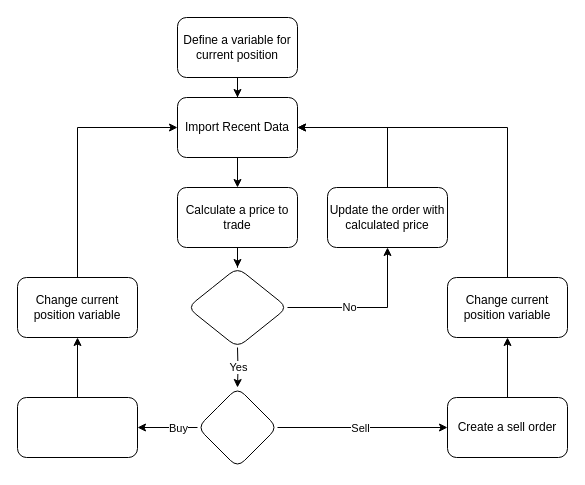
This 585x485 diagram has some shape labels left out. The shapes that lost their labels are listed below. From the top down, each one's box as (x1, y1, x2, y2) in pixels, then its label:
(186, 266, 288, 348): Is the Recent order is filled?
(16, 396, 138, 458): Create a buy order
(196, 386, 278, 468): Current position
